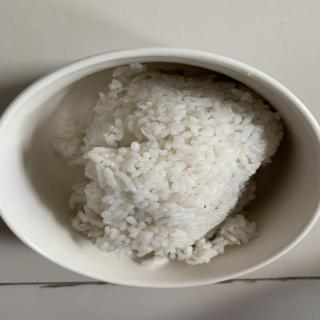Nasi: (69, 65, 283, 270)
